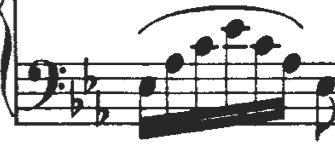bass_clef: (24, 51, 68, 112)
flat: (78, 52, 100, 98), (91, 87, 112, 128), (67, 77, 85, 122)
